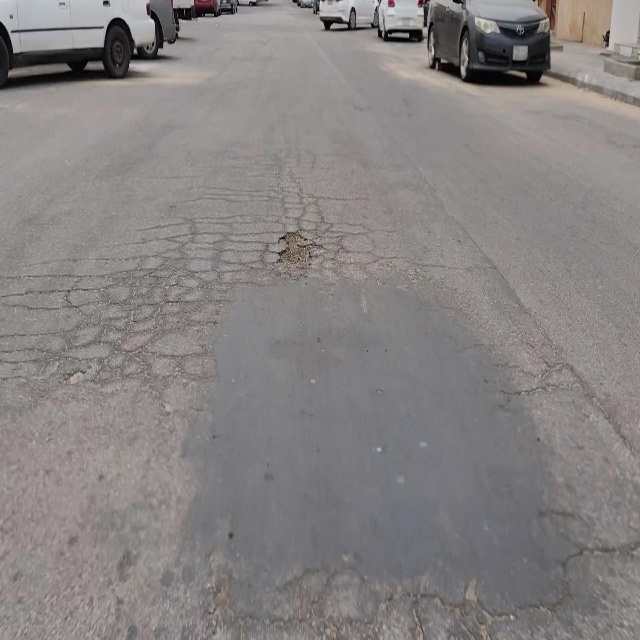pothole: (274, 228, 322, 271)
